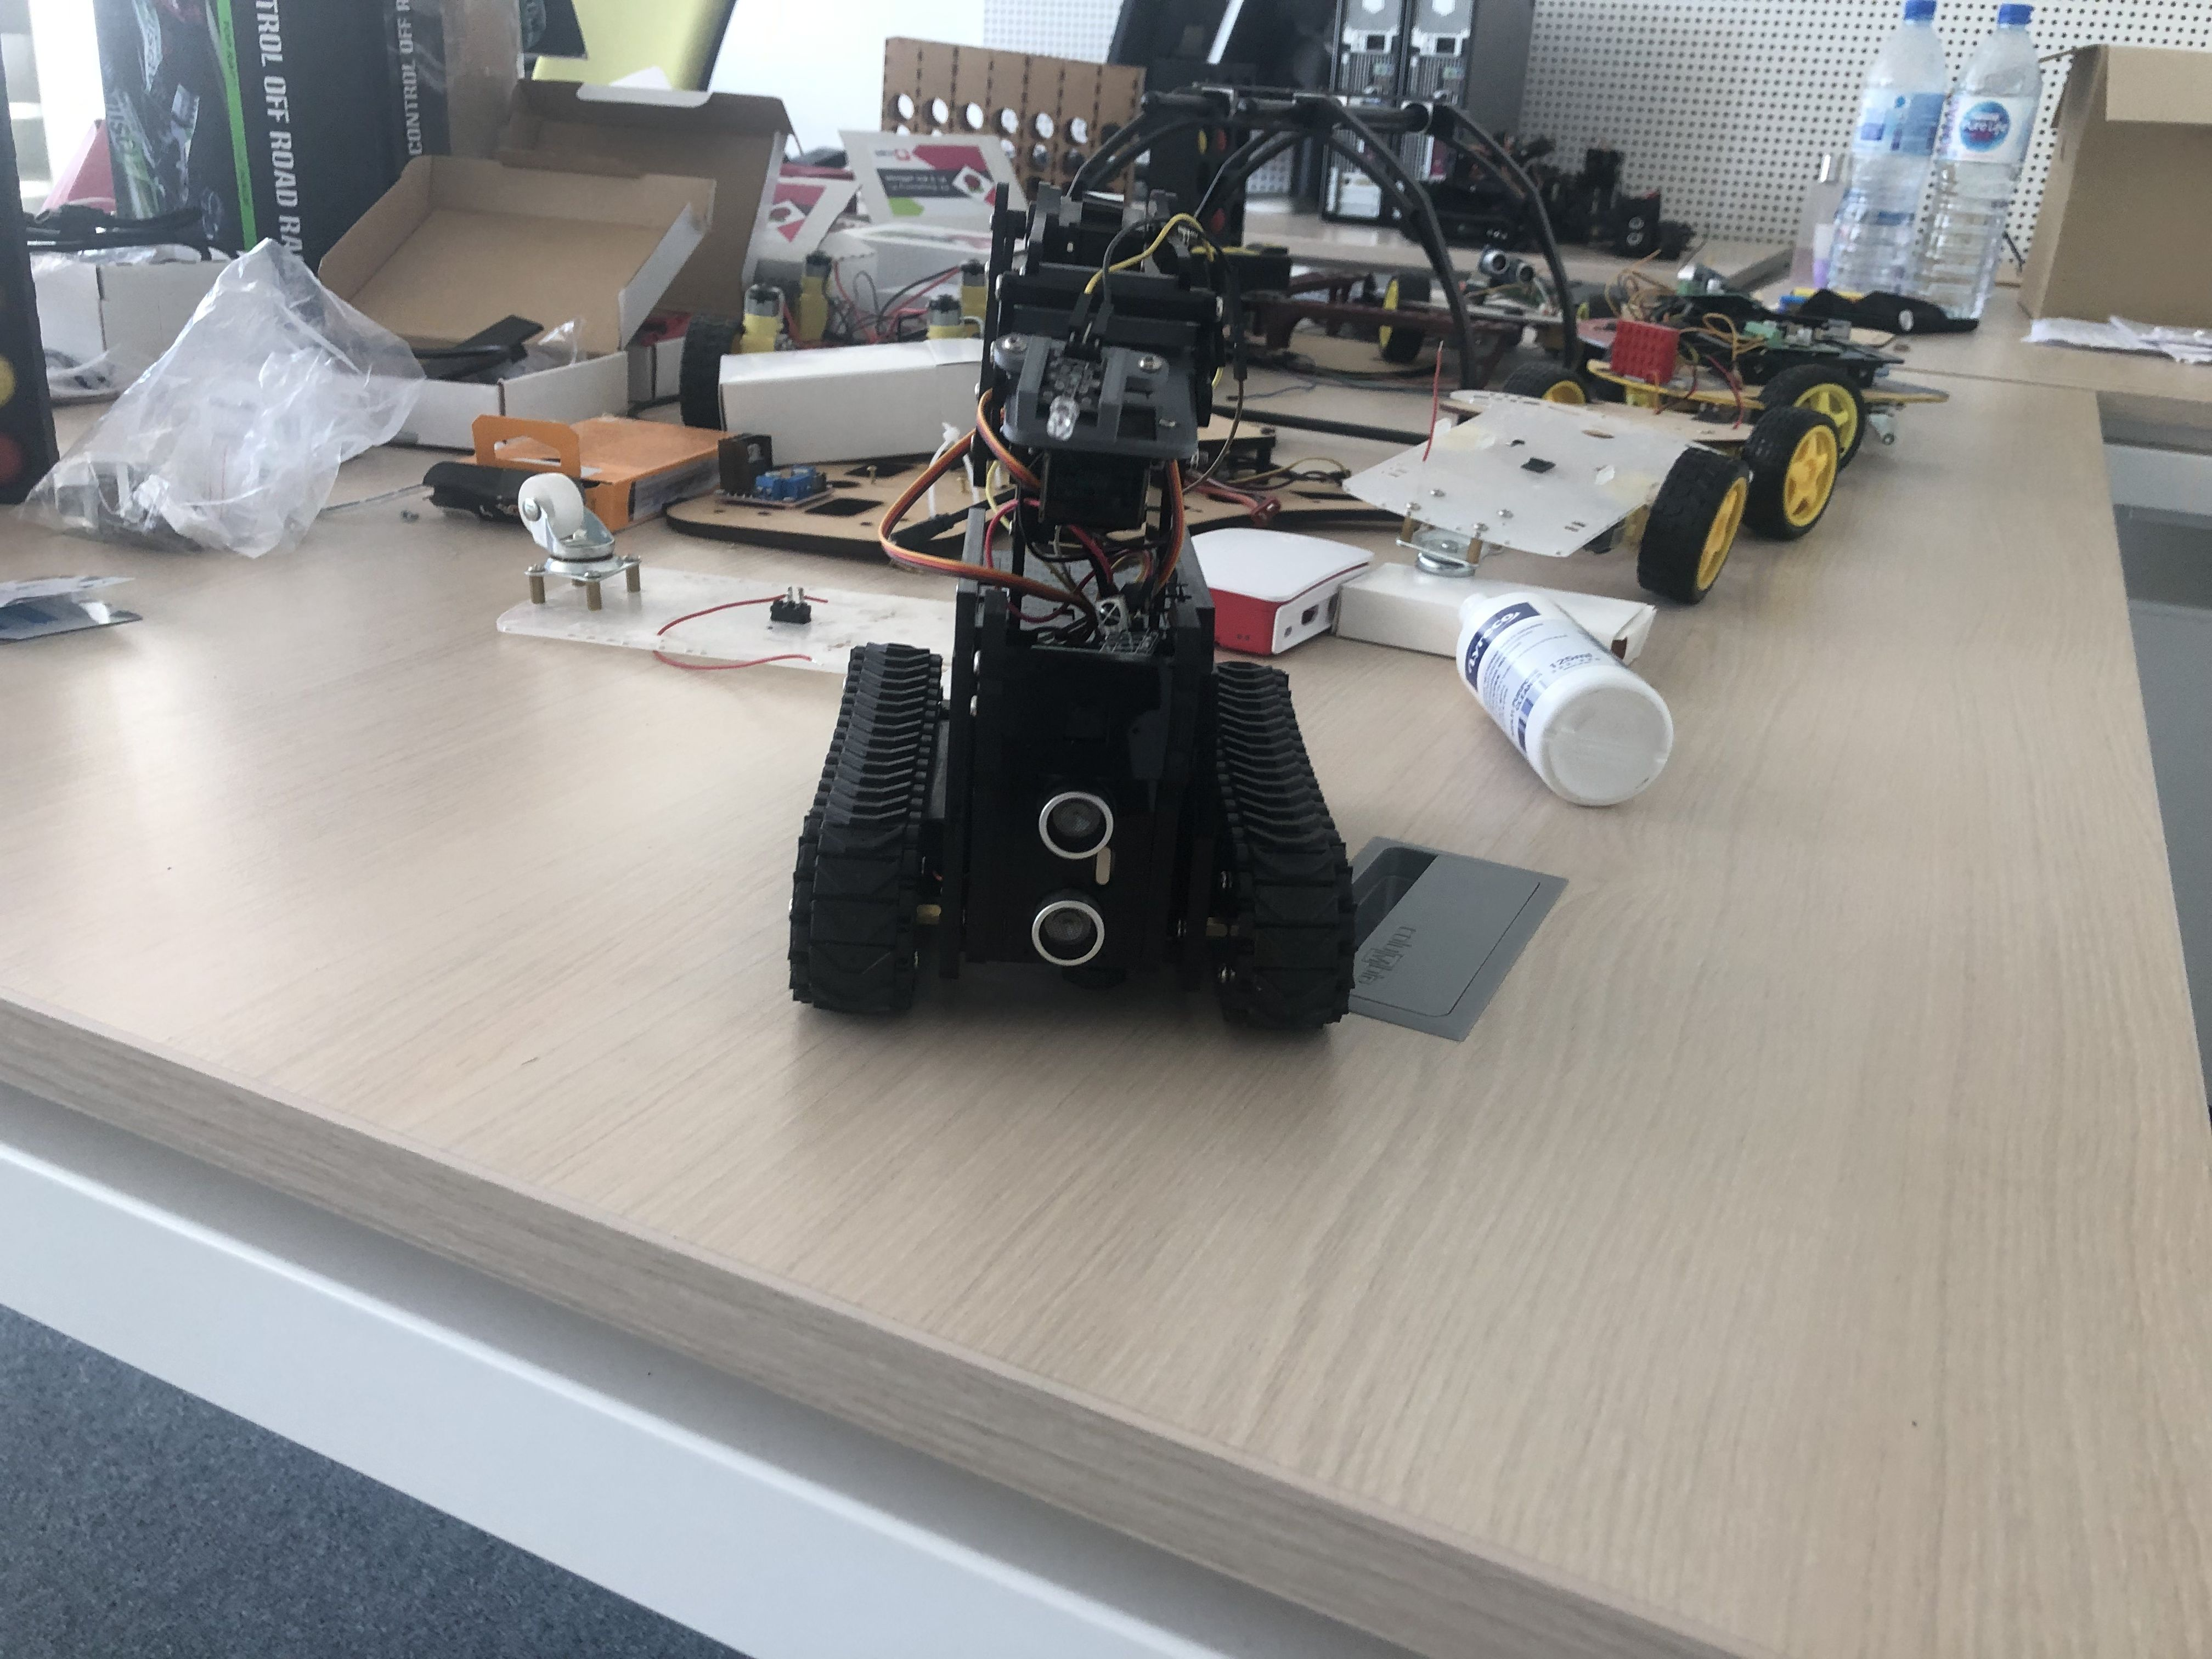rasptank: (777, 181, 1379, 1012)
